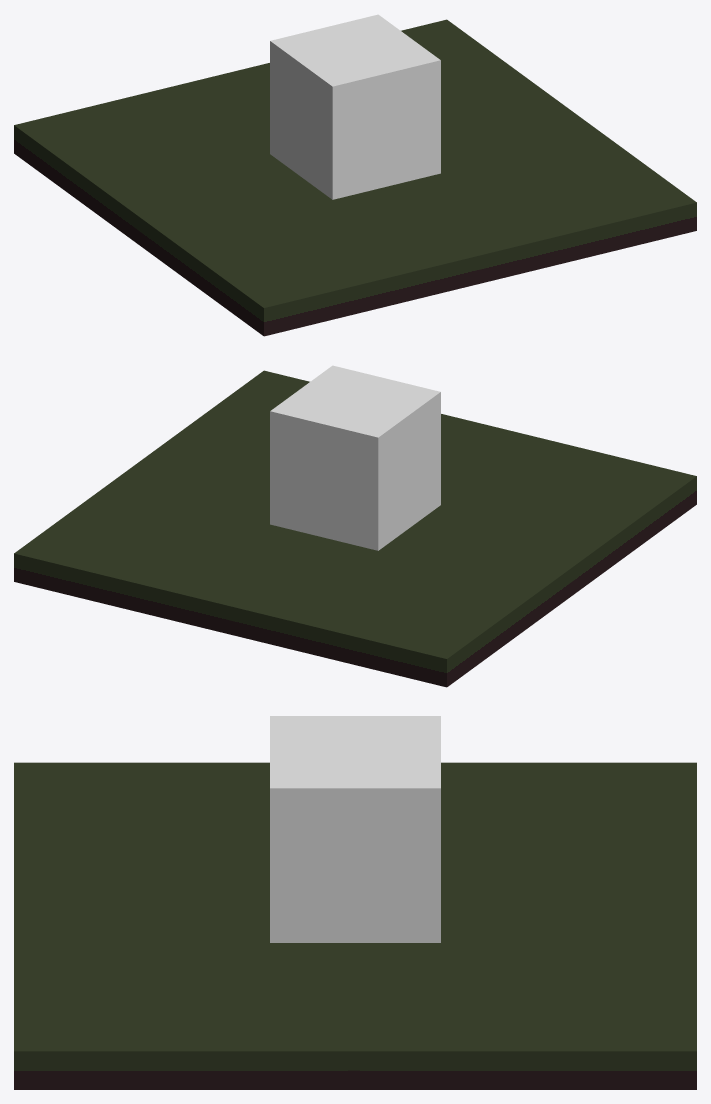
The model's file is stairway_up_room_8x8m.glb.
3 views of the same model, one above another, from view 1: azimuth 30°, elevation 25°; view 2: azimuth 150°, elevation 25°; view 3: azimuth 270°, elevation 25° (orthographic). The views are drawn at different scales.
Parts seen in each view (by area): view 1: FLOOR_1, INTERACTIVE_stair_up; view 2: FLOOR_1, INTERACTIVE_stair_up; view 3: FLOOR_1, INTERACTIVE_stair_up.
Part boxes in pixels (box(x1,y1,x2,y2)): FLOOR_1: box(14, 19, 696, 336); INTERACTIVE_stair_up: box(270, 14, 440, 199); FLOOR_1: box(14, 370, 696, 687); INTERACTIVE_stair_up: box(270, 365, 440, 550); FLOOR_1: box(14, 762, 696, 1089); INTERACTIVE_stair_up: box(270, 716, 440, 942).
Size of the model in its own units: 8 by 2.5 by 8.
Materials: 1 (1 with a texture image).
